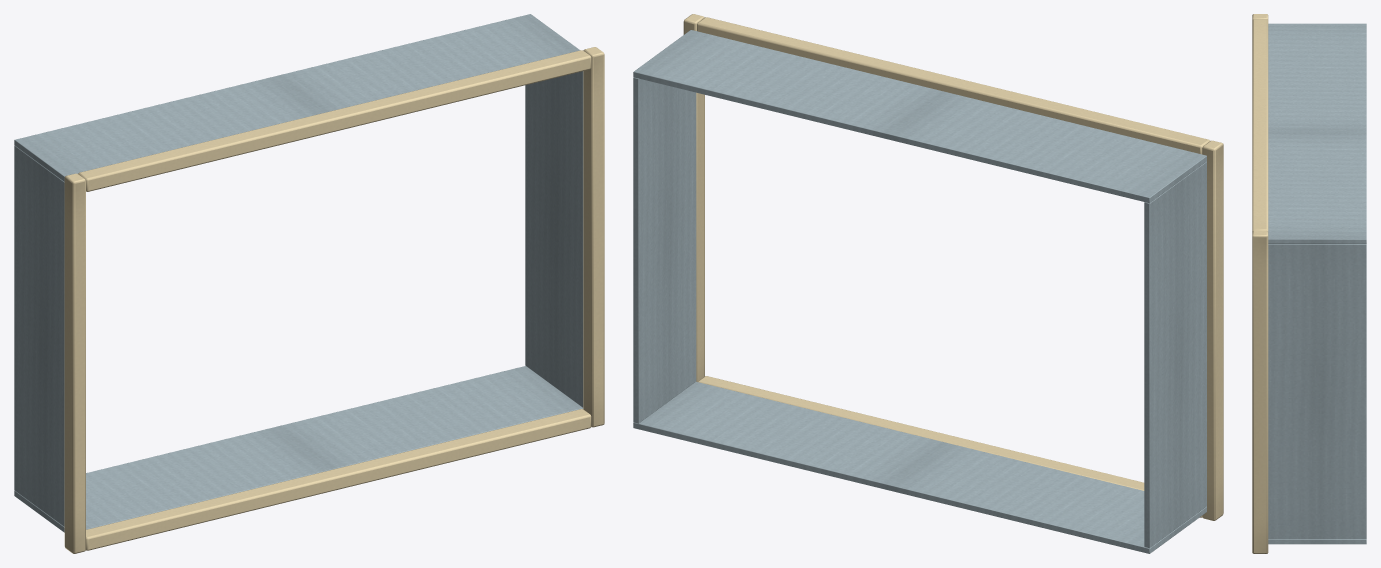
The model's file is 26-front-open-long-window-52.fbx.
3 views of the same model, side by side, from view 1: azimuth 30°, elevation 25°; view 2: azimuth 150°, elevation 25°; view 3: azimuth 270°, elevation 25° (orthographic). The views are drawn at different scales.
Visible parts, largest first — view 1: front-open-long-window-52; view 2: front-open-long-window-52; view 3: front-open-long-window-52.
Part boxes in pixels (bbox=[...]): front-open-long-window-52: bbox=[14, 14, 604, 553]; front-open-long-window-52: bbox=[633, 14, 1223, 553]; front-open-long-window-52: bbox=[1252, 14, 1366, 553].
Bounding box in the file's own units: 4840 × 3240 × 1055.
1 material, 1 textured.
